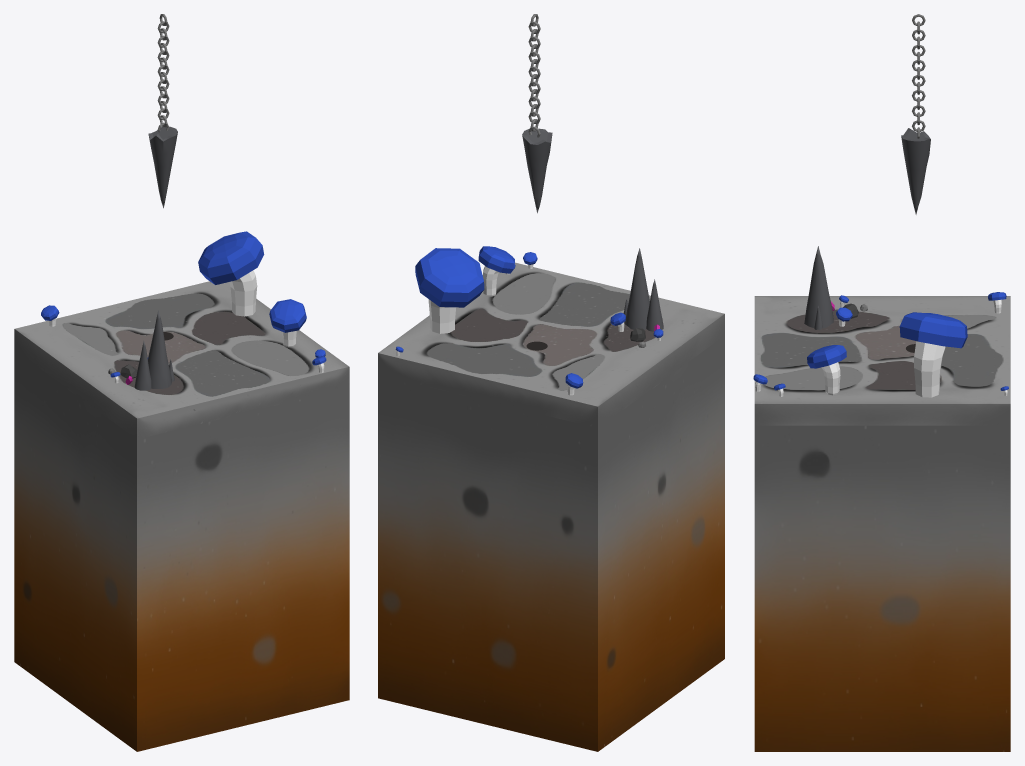
Rendered from Enmedio1Cueva.fbx.
3 renders of one model, left to right at view 1: azimuth 30°, elevation 25°; view 2: azimuth 150°, elevation 25°; view 3: azimuth 270°, elevation 25°, orthographic. The views are drawn at different scales.
Parts seen in each view (by area): view 1: Enmedio1Cueva, Cube.089, PinchosMalo, Estalagtita Malo, Cube.088, Cube.091, Torus.048; view 2: Enmedio1Cueva, Cube.089, PinchosMalo, Estalagtita Malo, Torus.048, Cube.091, Cube.088; view 3: Enmedio1Cueva, Cube.089, Estalagtita Malo, PinchosMalo, Cube.088, Torus.048, Cube.091, Cube.090.
Boxes of the visible parts, x1=… form: Enmedio1Cueva: x1=14, y1=281, x2=349, y2=751; Cube.089: x1=198, y1=231, x2=264, y2=284; PinchosMalo: x1=134, y1=310, x2=174, y2=390; Estalagtita Malo: x1=148, y1=126, x2=177, y2=208; Cube.088: x1=229, y1=270, x2=257, y2=316; Cube.091: x1=269, y1=299, x2=306, y2=332; Torus.048: x1=157, y1=14, x2=169, y2=132; Enmedio1Cueva: x1=378, y1=262, x2=724, y2=751; Cube.089: x1=415, y1=248, x2=484, y2=307; PinchosMalo: x1=623, y1=248, x2=663, y2=331; Estalagtita Malo: x1=522, y1=128, x2=552, y2=213; Torus.048: x1=528, y1=14, x2=540, y2=137; Cube.091: x1=478, y1=246, x2=514, y2=273; Cube.088: x1=428, y1=299, x2=456, y2=333; Enmedio1Cueva: x1=754, y1=296, x2=1010, y2=751; Cube.089: x1=899, y1=312, x2=967, y2=348; Estalagtita Malo: x1=901, y1=128, x2=930, y2=214; PinchosMalo: x1=804, y1=246, x2=833, y2=330; Cube.088: x1=914, y1=341, x2=945, y2=397; Torus.048: x1=912, y1=14, x2=925, y2=138; Cube.091: x1=807, y1=345, x2=846, y2=368; Cube.090: x1=821, y1=362, x2=840, y2=395.
Size of the model in its own units: 1000 by 2946 by 1005.
